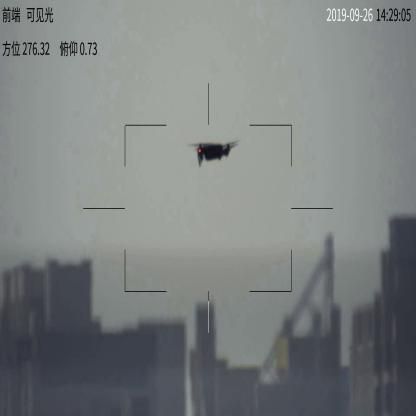uav: (186, 139, 240, 165)
